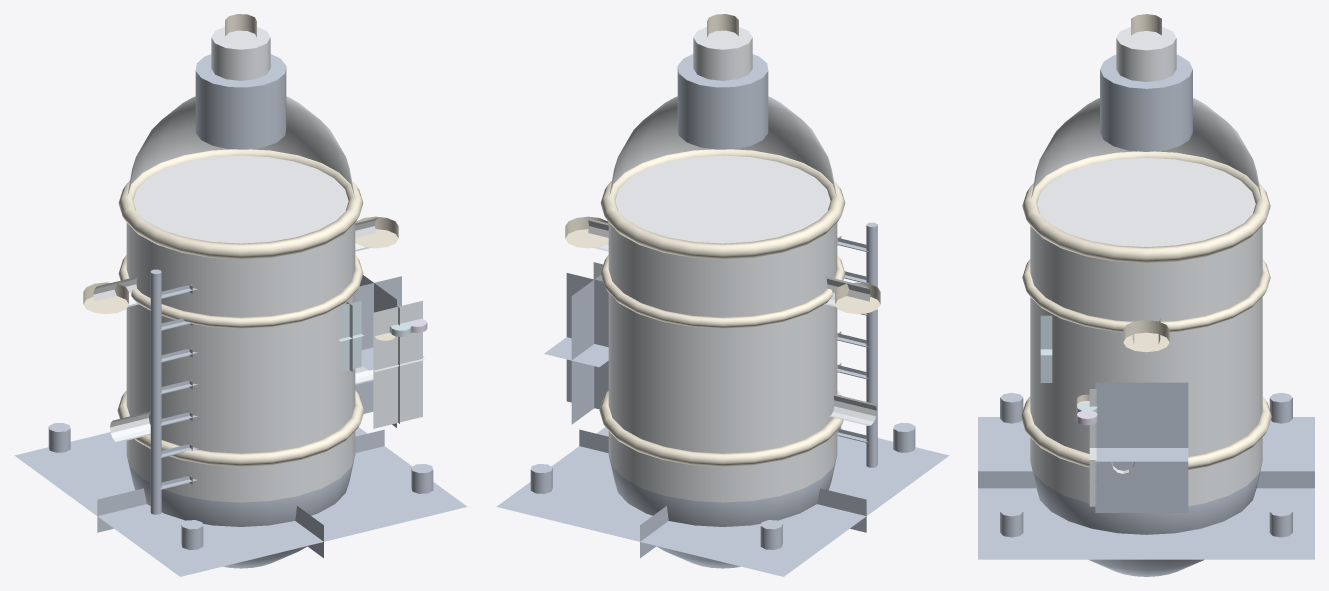
Rendered from reactor.gltf.
The picture shows the model from 3 angles, left to right: view 1: azimuth 30°, elevation 25°; view 2: azimuth 150°, elevation 25°; view 3: azimuth 270°, elevation 25°; orthographic projection.
Parts seen in each view (by area): view 1: reactor; view 2: reactor; view 3: reactor.
Part boxes in pixels (box(x1,y1,x2,y2)): reactor: box(14, 14, 467, 576); reactor: box(496, 14, 949, 576); reactor: box(978, 14, 1314, 576).
Size of the model in its own units: 1.58 by 2.59 by 1.45.
